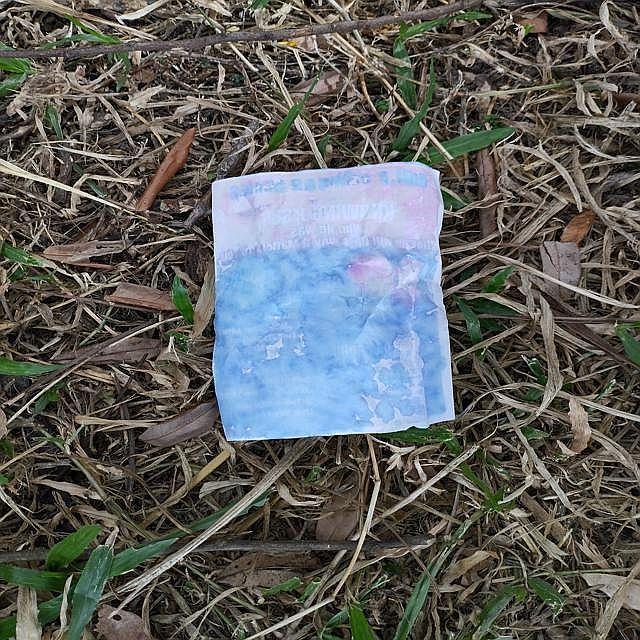Biodegradable: (212, 165, 456, 440)
